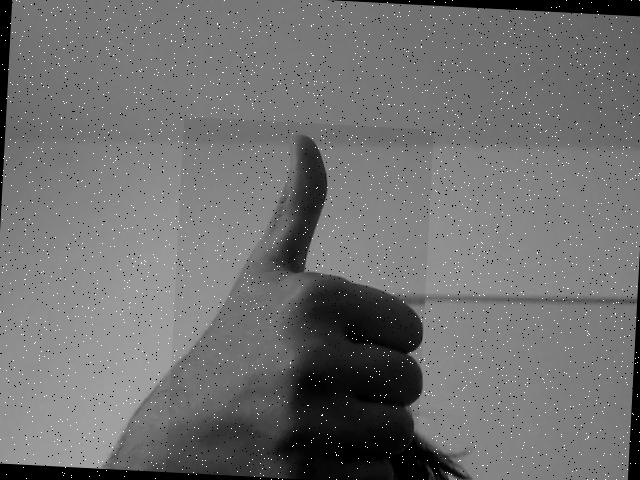good: (166, 117, 434, 480)
